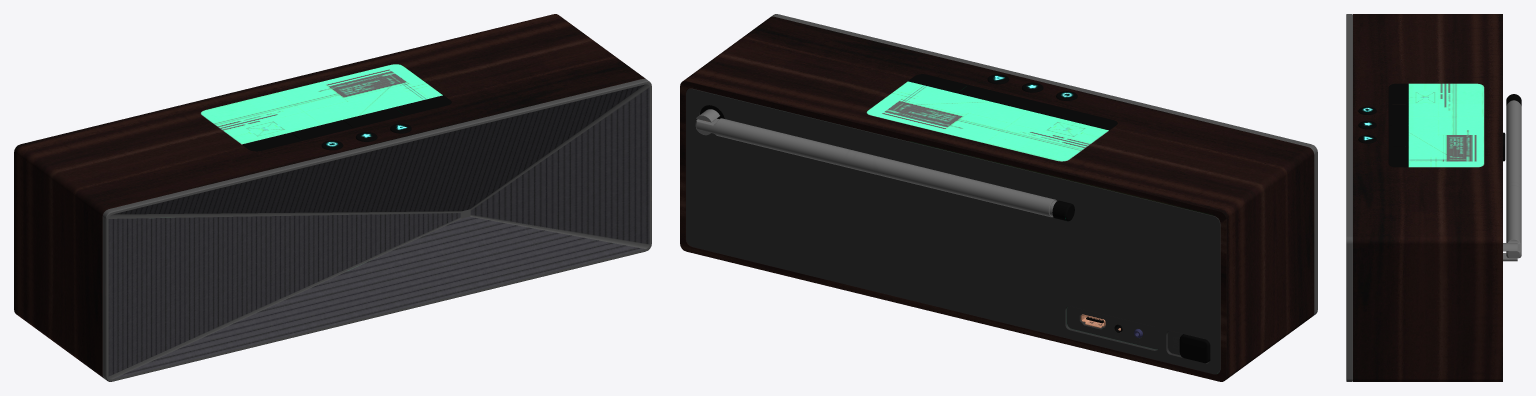
Rendered from present_81_radio_low_sf.fbx.
3 views of the same model, side by side, from view 1: azimuth 30°, elevation 25°; view 2: azimuth 150°, elevation 25°; view 3: azimuth 270°, elevation 25° (orthographic). The views are drawn at different scales.
Visible parts, largest first — view 1: radio.007_low, radio.006_low, radio_low, radio.004_low, radio.005_low, radio.008_low; view 2: radio.001_low, radio.006_low, radio.004_low, radio.011_low, radio_low, radio.005_low, radio.002_low, radio.008_low; view 3: radio.006_low, radio.004_low, radio_low, radio.011_low, radio.005_low, radio.008_low, radio.014_low.
Boxes of the visible parts, x1,y1,x2,y2 form: radio.007_low: [108, 84, 649, 378]; radio.006_low: [14, 14, 645, 378]; radio_low: [102, 78, 651, 381]; radio.004_low: [200, 64, 442, 144]; radio.005_low: [242, 95, 451, 151]; radio.008_low: [321, 123, 411, 150]; radio.001_low: [686, 88, 1220, 374]; radio.006_low: [680, 16, 1314, 381]; radio.004_low: [866, 81, 1108, 161]; radio.011_low: [695, 118, 1056, 217]; radio_low: [771, 14, 1317, 315]; radio.005_low: [908, 74, 1117, 130]; radio.002_low: [1179, 334, 1210, 363]; radio.008_low: [987, 74, 1077, 100]; radio.006_low: [1353, 14, 1502, 381]; radio.004_low: [1408, 83, 1484, 167]; radio_low: [1346, 14, 1352, 381]; radio.011_low: [1506, 101, 1521, 258]; radio.005_low: [1388, 83, 1408, 167]; radio.008_low: [1358, 106, 1376, 143]; radio.014_low: [1503, 243, 1517, 261].
Size of what is drawn, in the model's own units: 2978 by 910 by 974.
